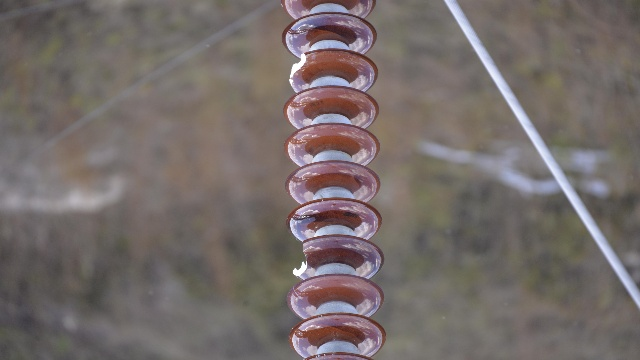broken_local: (287, 50, 311, 88), (292, 238, 311, 280)
insulator_unspecified: (278, 0, 387, 358)
